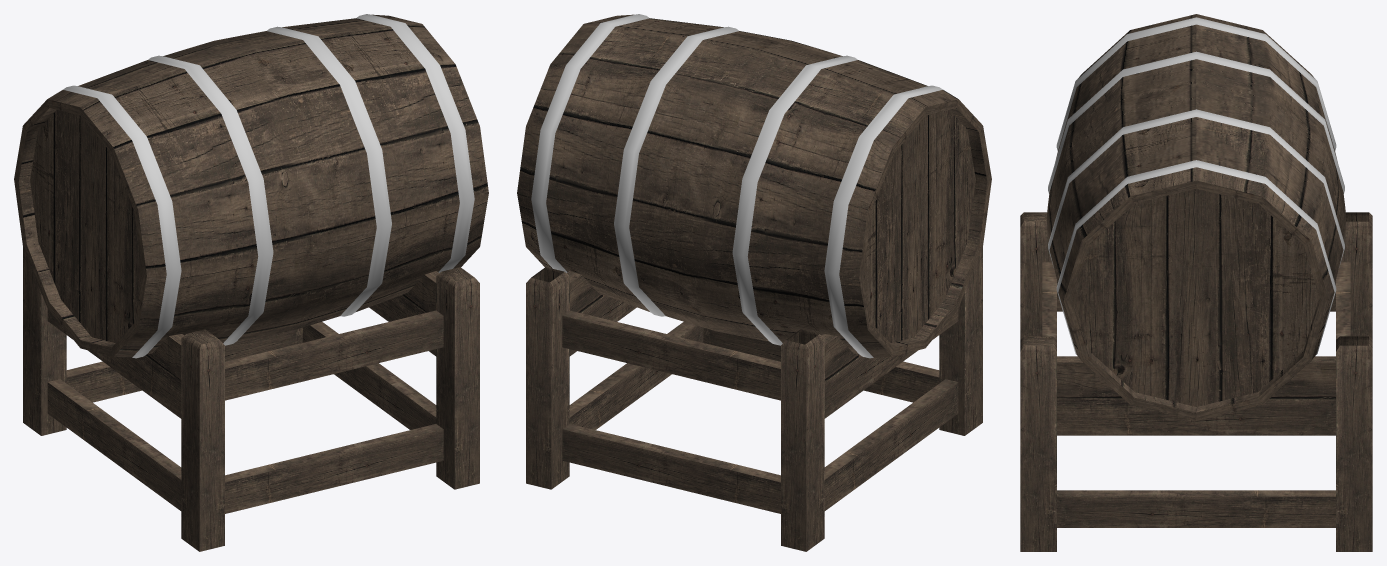
Rendered from f1_barrel2.fbx.
3 views of the same model, side by side, from view 1: azimuth 30°, elevation 25°; view 2: azimuth 150°, elevation 25°; view 3: azimuth 270°, elevation 25° (orthographic).
Visible parts, largest first — view 1: Mesh Object; view 2: Mesh Object; view 3: Mesh Object.
Part boxes in pixels (x1,y1,x2,y2): Mesh Object: (14, 14, 488, 551); Mesh Object: (517, 14, 991, 551); Mesh Object: (1020, 14, 1372, 551).
Bounding box in the file's own units: 1.07 × 1.21 × 0.96.
